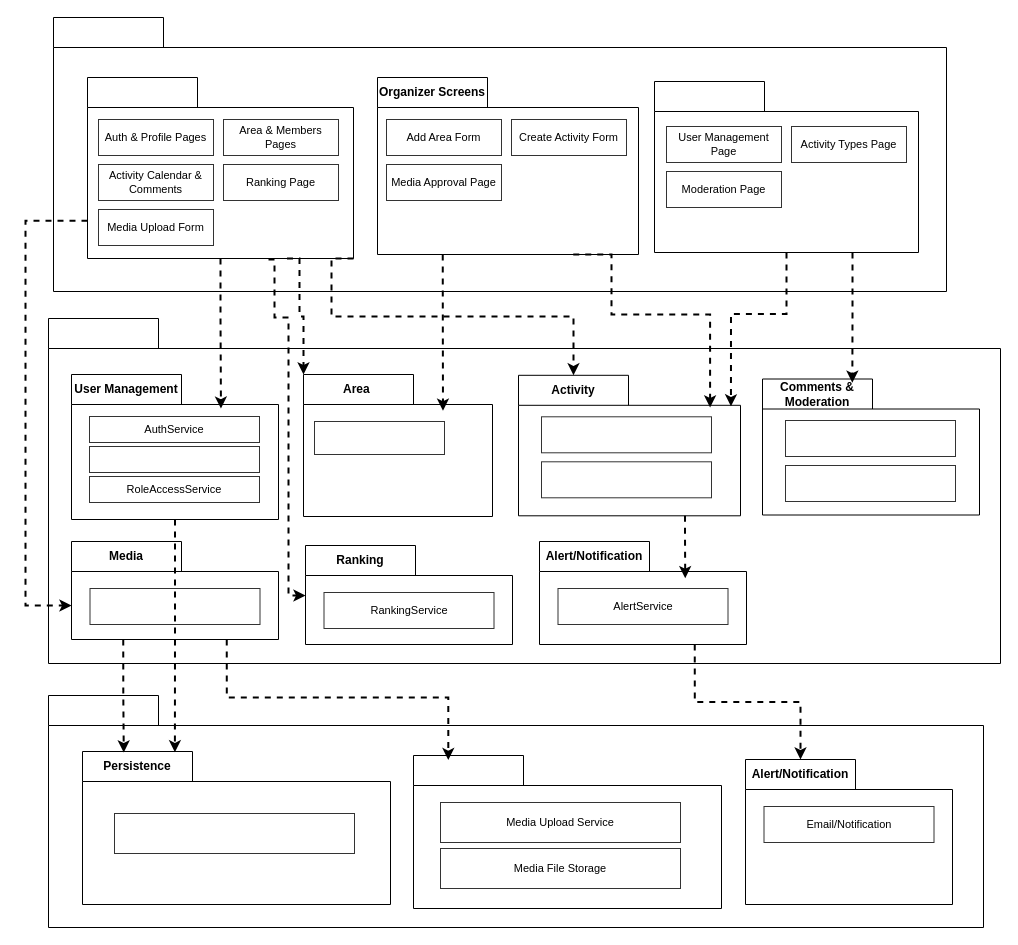
Some shapes in this 1018 by 945 pixel diagram are drawn without their labels. The box of each missing label's shape, as (x1, y1, x2, y2) in pixels:
ActivityService: (540, 416, 712, 453)
ActivityTypeService: (540, 461, 712, 498)
Admin Screens: (654, 80, 918, 252)
Application Layer (Business Logic): (48, 318, 1000, 664)
AreaService: (314, 420, 444, 454)
CommentService: (784, 420, 956, 456)
Data Services Layer: (48, 694, 984, 928)
Media Handling: (412, 754, 722, 908)
MediaService: (89, 588, 260, 624)
Member Screens: (86, 76, 354, 258)
ModerationService: (784, 464, 956, 502)
Presentation Layer (UI): (52, 16, 946, 292)
ProfileService: (88, 446, 260, 472)
Repositories (User, Area, Activity, Comment, Ranking): (114, 812, 354, 854)
